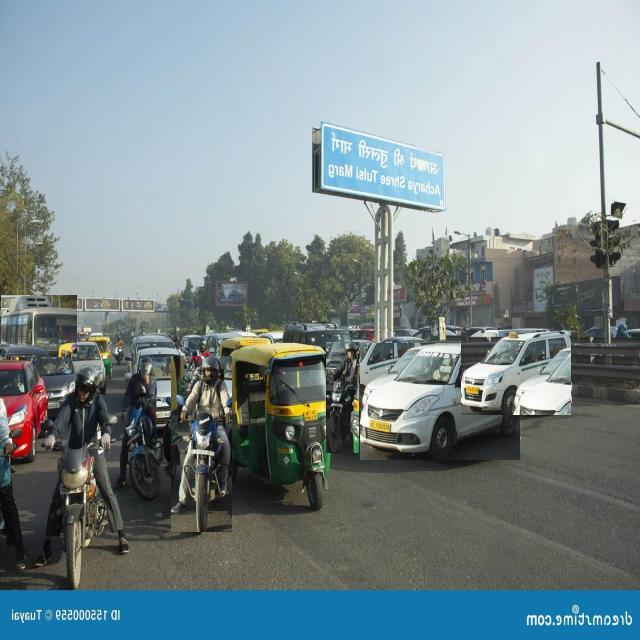autorickshaw: (221, 342, 334, 509)
bus: (0, 295, 77, 357)
car: (360, 344, 520, 460), (461, 330, 571, 415), (282, 322, 370, 392), (0, 360, 48, 462), (29, 346, 75, 419)
motorcycle: (35, 366, 129, 588), (171, 356, 231, 532), (115, 358, 162, 500), (326, 342, 359, 453)
